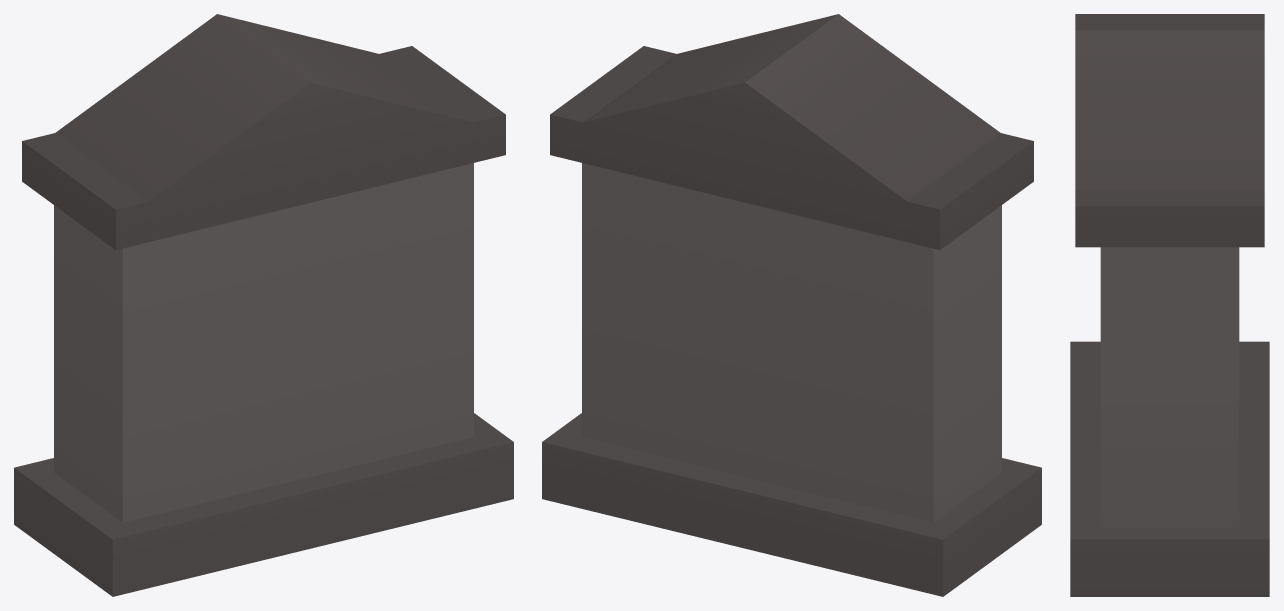
Rendered from village_town_tombstone_3.glb.
3 renders of one model, left to right at view 1: azimuth 30°, elevation 25°; view 2: azimuth 150°, elevation 25°; view 3: azimuth 270°, elevation 25°, orthographic.
Parts seen in each view (by area): view 1: Tombstone_3.001_Material.005_0; view 2: Tombstone_3.001_Material.005_0; view 3: Tombstone_3.001_Material.005_0.
Part boxes in pixels (x1,y1,x2,y2): Tombstone_3.001_Material.005_0: [14, 14, 513, 596]; Tombstone_3.001_Material.005_0: [542, 14, 1041, 596]; Tombstone_3.001_Material.005_0: [1070, 14, 1269, 596].
Size of the model in its own units: 1.05 by 1.16 by 0.449.
Materials: 1 (1 with a texture image).
